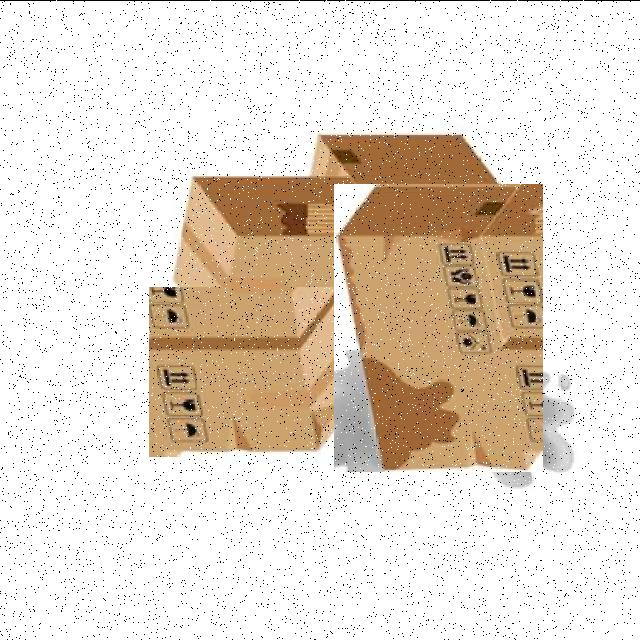defect: (334, 183, 543, 471), (172, 172, 392, 342), (149, 286, 369, 456)
